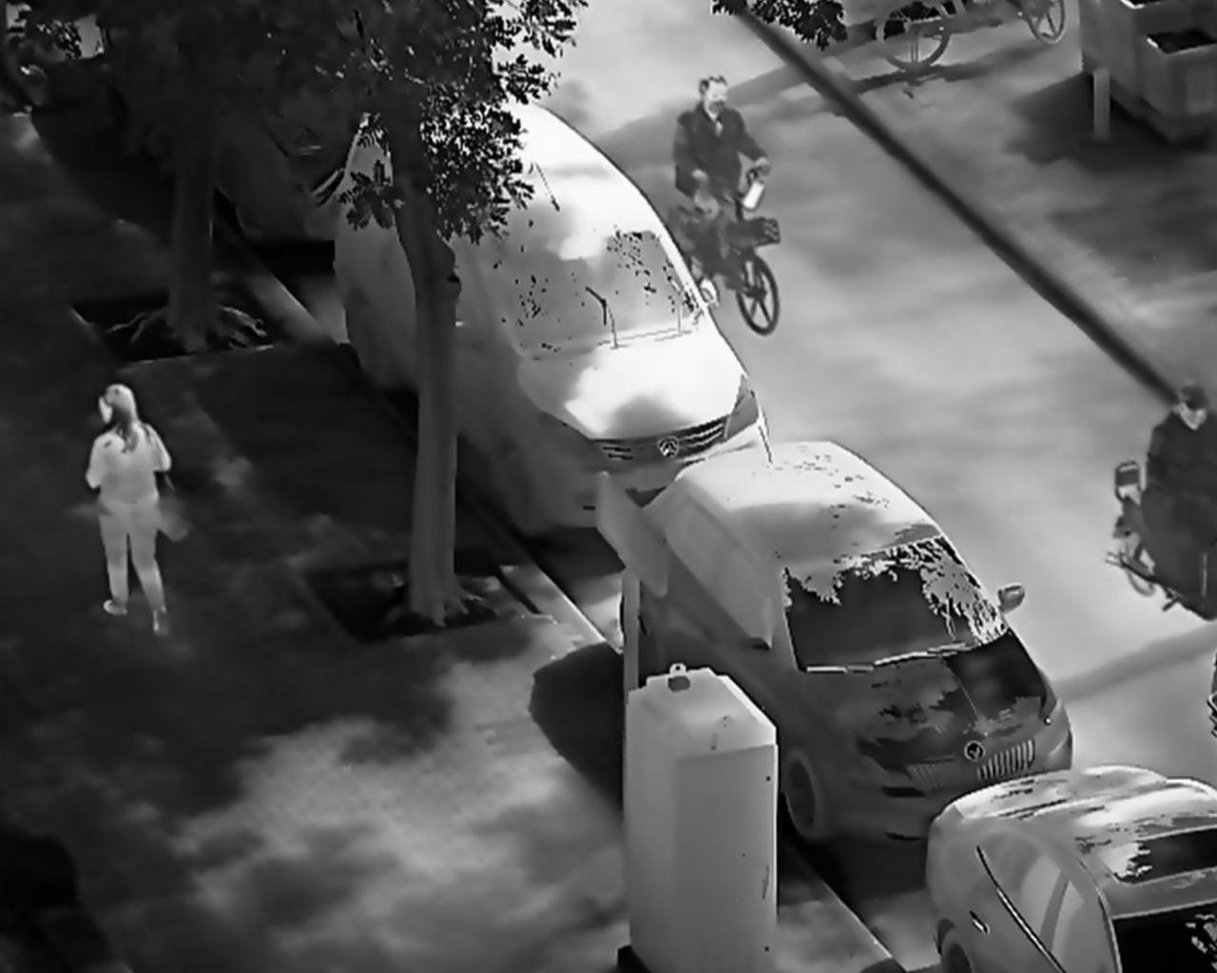person: (78, 378, 188, 641), (671, 73, 776, 304)
